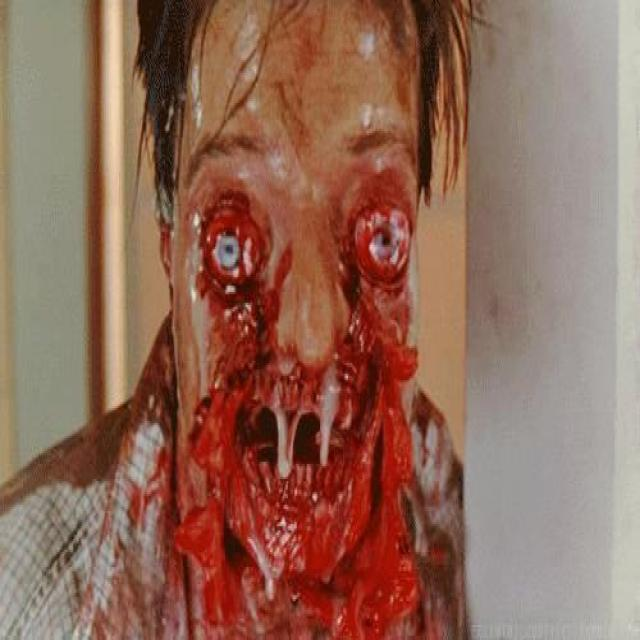flood: (174, 140, 438, 623)
